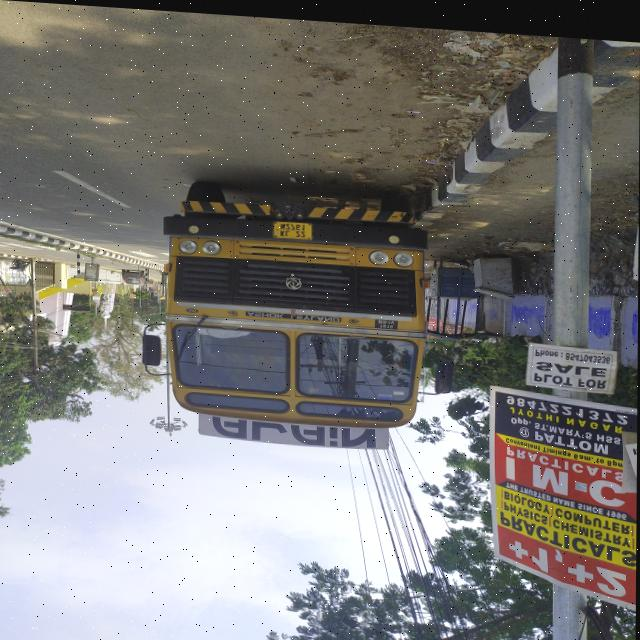plate: (272, 215, 313, 239)
